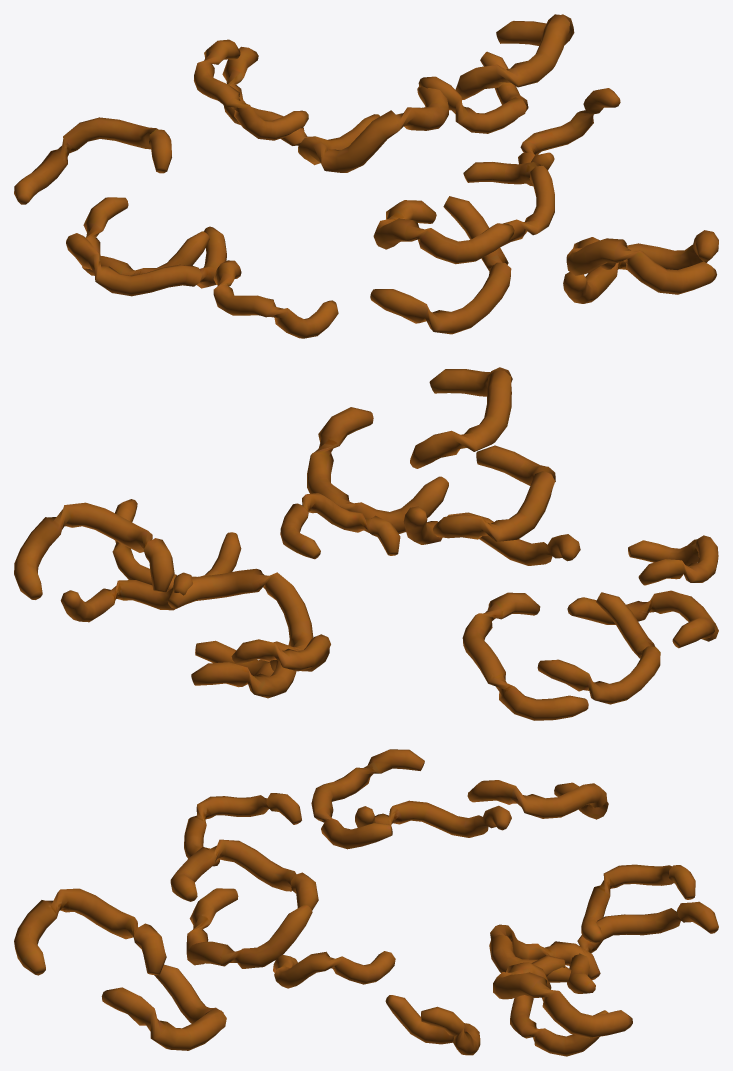
File: crunch_friedonion.glb
3 renders of one model, top to bottom at view 1: azimuth 30°, elevation 25°; view 2: azimuth 150°, elevation 25°; view 3: azimuth 270°, elevation 25°, orthographic. The views are drawn at different scales.
Visible parts, largest first — view 1: EX_Crunch_friedonion_piece14, EX_Crunch_friedonion_piece06, EX_Crunch_friedonion_piece09, EX_Crunch_friedonion_piece11, EX_Crunch_friedonion_piece12, EX_Crunch_friedonion_piece05, EX_Crunch_friedonion_piece04, EX_Crunch_friedonion_piece01, EX_Crunch_friedonion_piece13, EX_Crunch_friedonion_piece03, EX_Crunch_friedonion_piece10, EX_Crunch_friedonion_piece07 (+3 smaller); view 2: EX_Crunch_friedonion_piece06, EX_Crunch_friedonion_piece04, EX_Crunch_friedonion_piece11, EX_Crunch_friedonion_piece12, EX_Crunch_friedonion_piece03, EX_Crunch_friedonion_piece08, EX_Crunch_friedonion_piece09, EX_Crunch_friedonion_piece10, EX_Crunch_friedonion_piece02, EX_Crunch_friedonion_piece05, EX_Crunch_friedonion_piece13, EX_Crunch_friedonion_piece14 (+3 smaller); view 3: EX_Crunch_friedonion_piece04, EX_Crunch_friedonion_piece03, EX_Crunch_friedonion_piece14, EX_Crunch_friedonion_piece05, EX_Crunch_friedonion_piece12, EX_Crunch_friedonion_piece06, EX_Crunch_friedonion_piece02, EX_Crunch_friedonion_piece11, EX_Crunch_friedonion_piece01, EX_Crunch_friedonion_piece08, EX_Crunch_friedonion_piece13, EX_Crunch_friedonion_piece15 (+3 smaller).
Boxes of the visible parts, x1=… form: EX_Crunch_friedonion_piece14: x1=370, y1=196, x2=511, y2=334; EX_Crunch_friedonion_piece06: x1=455, y1=14, x2=574, y2=99; EX_Crunch_friedonion_piece09: x1=298, y1=86, x2=448, y2=172; EX_Crunch_friedonion_piece11: x1=14, y1=117, x2=171, y2=204; EX_Crunch_friedonion_piece12: x1=373, y1=200, x2=514, y2=264; EX_Crunch_friedonion_piece05: x1=66, y1=226, x2=226, y2=296; EX_Crunch_friedonion_piece04: x1=566, y1=237, x2=716, y2=294; EX_Crunch_friedonion_piece01: x1=194, y1=39, x2=308, y2=140; EX_Crunch_friedonion_piece13: x1=213, y1=260, x2=338, y2=338; EX_Crunch_friedonion_piece03: x1=563, y1=230, x2=718, y2=303; EX_Crunch_friedonion_piece10: x1=463, y1=162, x2=554, y2=246; EX_Crunch_friedonion_piece07: x1=418, y1=51, x2=528, y2=133; EX_Crunch_friedonion_piece06: x1=14, y1=502, x2=174, y2=599; EX_Crunch_friedonion_piece04: x1=410, y1=367, x2=512, y2=468; EX_Crunch_friedonion_piece11: x1=462, y1=592, x2=588, y2=720; EX_Crunch_friedonion_piece12: x1=433, y1=445, x2=555, y2=541; EX_Crunch_friedonion_piece03: x1=307, y1=407, x2=448, y2=533; EX_Crunch_friedonion_piece08: x1=537, y1=592, x2=660, y2=704; EX_Crunch_friedonion_piece09: x1=167, y1=568, x2=313, y2=676; EX_Crunch_friedonion_piece10: x1=280, y1=493, x2=400, y2=559; EX_Crunch_friedonion_piece02: x1=191, y1=640, x2=296, y2=698; EX_Crunch_friedonion_piece05: x1=567, y1=590, x2=718, y2=648; EX_Crunch_friedonion_piece13: x1=628, y1=535, x2=718, y2=585; EX_Crunch_friedonion_piece14: x1=403, y1=506, x2=580, y2=565; EX_Crunch_friedonion_piece04: x1=14, y1=888, x2=166, y2=975; EX_Crunch_friedonion_piece03: x1=101, y1=964, x2=226, y2=1050; EX_Crunch_friedonion_piece14: x1=186, y1=888, x2=312, y2=968; EX_Crunch_friedonion_piece05: x1=311, y1=749, x2=424, y2=849; EX_Crunch_friedonion_piece12: x1=170, y1=839, x2=318, y2=910; EX_Crunch_friedonion_piece06: x1=493, y1=962, x2=632, y2=1038; EX_Crunch_friedonion_piece02: x1=567, y1=901, x2=718, y2=993; EX_Crunch_friedonion_piece11: x1=467, y1=780, x2=608, y2=819; EX_Crunch_friedonion_piece01: x1=581, y1=864, x2=695, y2=942; EX_Crunch_friedonion_piece08: x1=355, y1=800, x2=511, y2=837; EX_Crunch_friedonion_piece13: x1=184, y1=793, x2=301, y2=866; EX_Crunch_friedonion_piece15: x1=385, y1=995, x2=480, y2=1055.
Bounding box in the file's own units: 0.0606 × 0.0119 × 0.0649.
15 materials, 15 textured.
